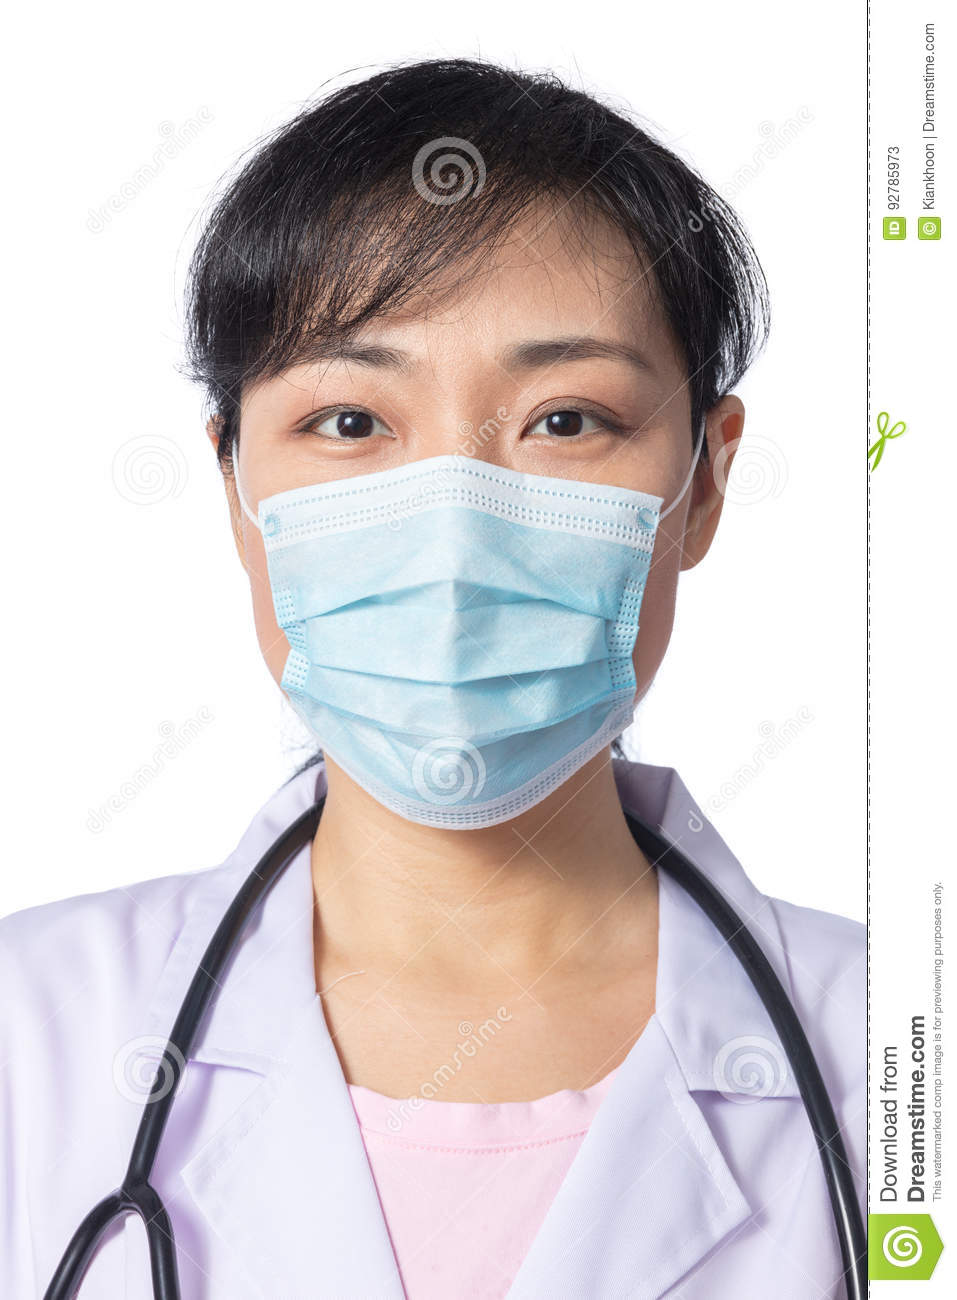mask: (238, 479, 668, 847)
